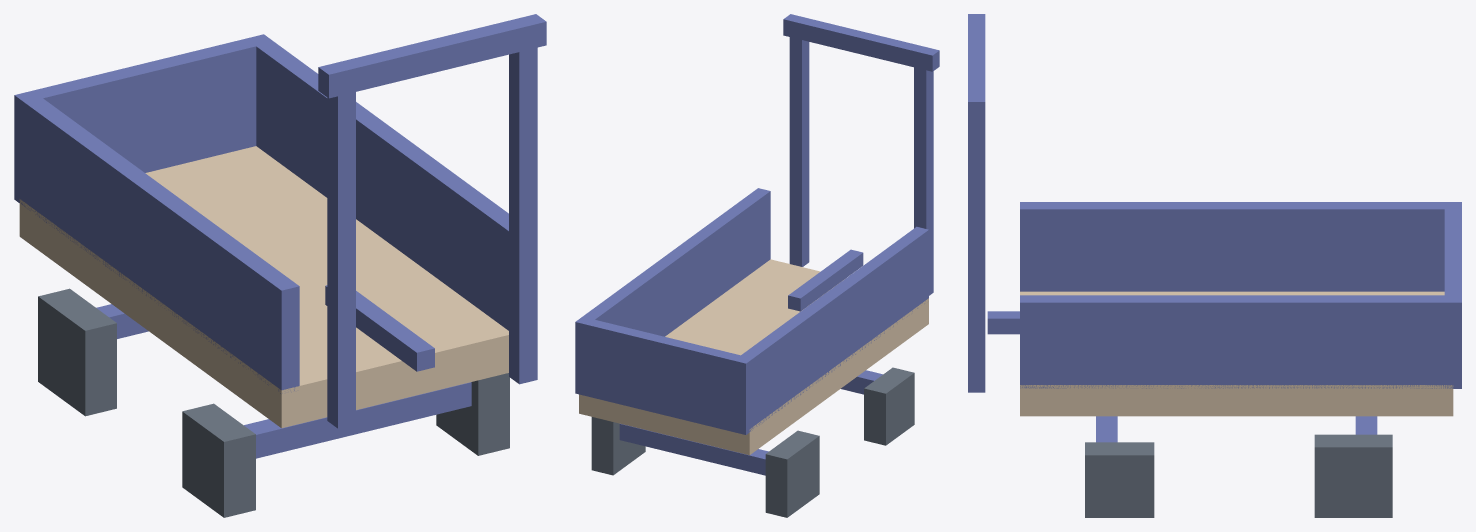
Rendered from cart_01.glb.
The picture shows the model from 3 angles, left to right: view 1: azimuth 30°, elevation 25°; view 2: azimuth 150°, elevation 25°; view 3: azimuth 270°, elevation 25°; orthographic projection. The views are drawn at different scales.
Parts seen in each view (by area): view 1: cart_01; view 2: cart_01; view 3: cart_01.
Boxes of the visible parts, x1,y1,x2,y2 form: cart_01: [14, 14, 546, 517]; cart_01: [575, 14, 939, 517]; cart_01: [968, 14, 1461, 517].
Size of the model in its own units: 0.63 by 1.02 by 1.14.
